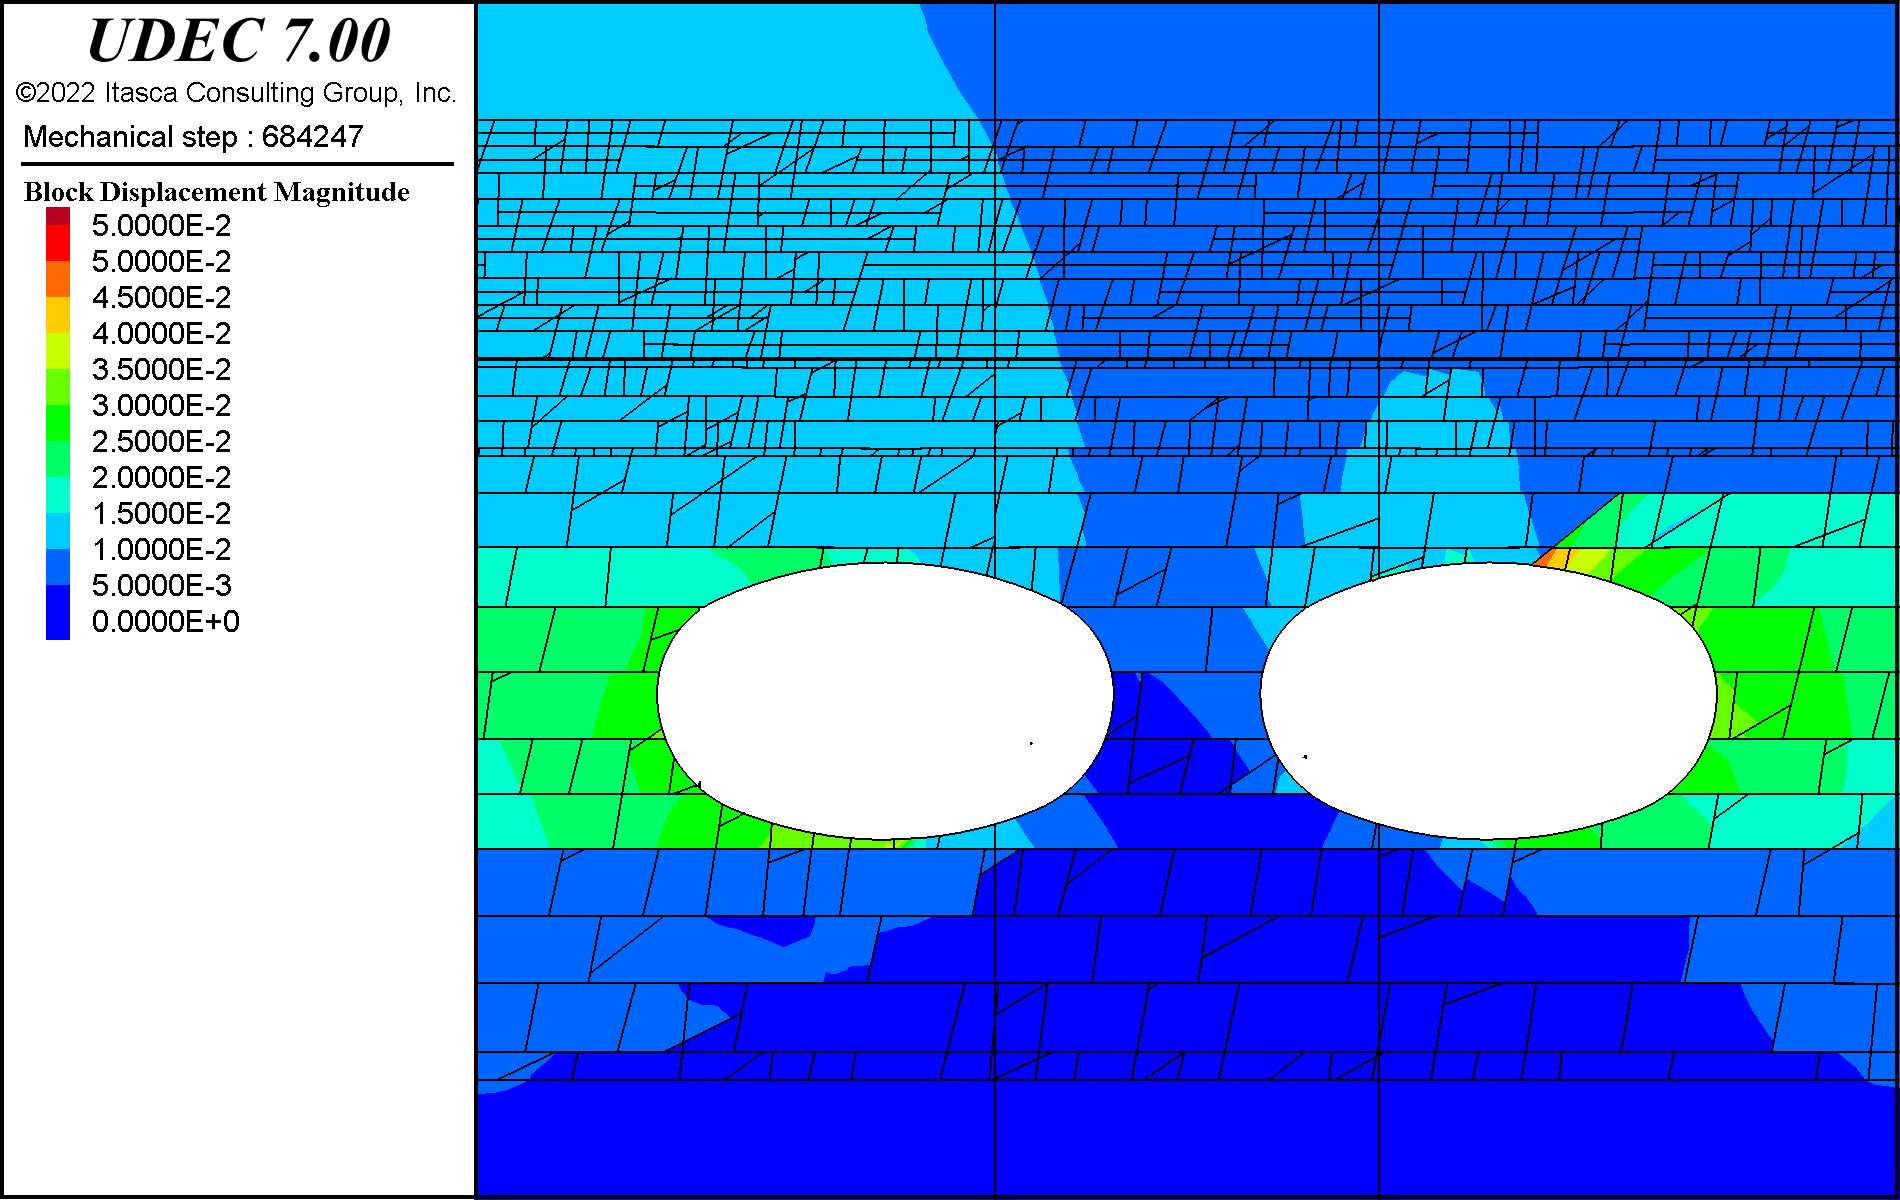crown: (1421, 516, 1539, 557), (829, 518, 929, 557)
label: (6, 6, 471, 1196)
tunnel-opening: (655, 563, 1112, 841), (1256, 563, 1718, 838)
